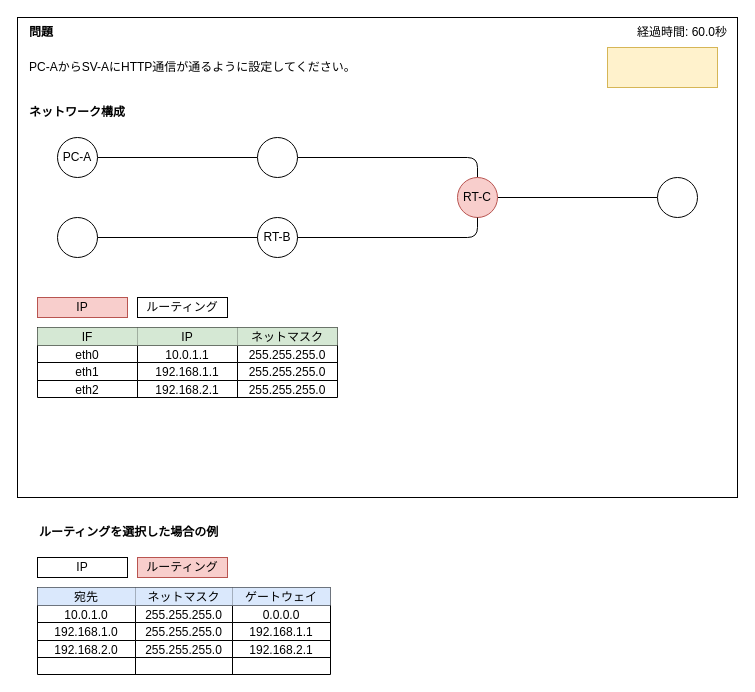
This 755x692 diagram has some shape labels left out. Here are the shapes that lost their labels. From the top down, the centre of each, then its label:
(662,67): 回答終了
(277,157): RT-A
(677,197): SV-A
(77,237): PC-B
